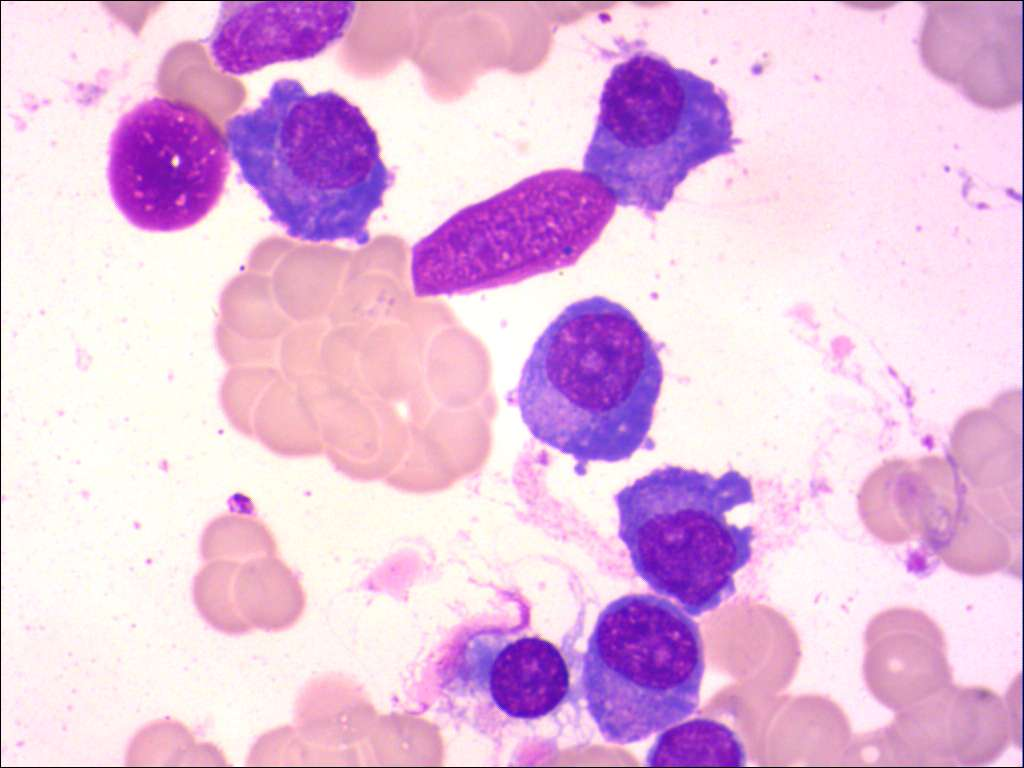51: (222, 75, 401, 249), (511, 290, 668, 479), (578, 49, 740, 217), (609, 460, 758, 619), (579, 588, 707, 750)
x: (407, 161, 621, 301), (102, 92, 237, 238), (202, 1, 360, 83), (477, 625, 579, 729), (641, 714, 750, 768)
